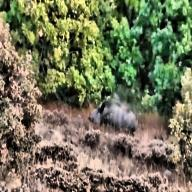boar: (82, 82, 144, 136)
